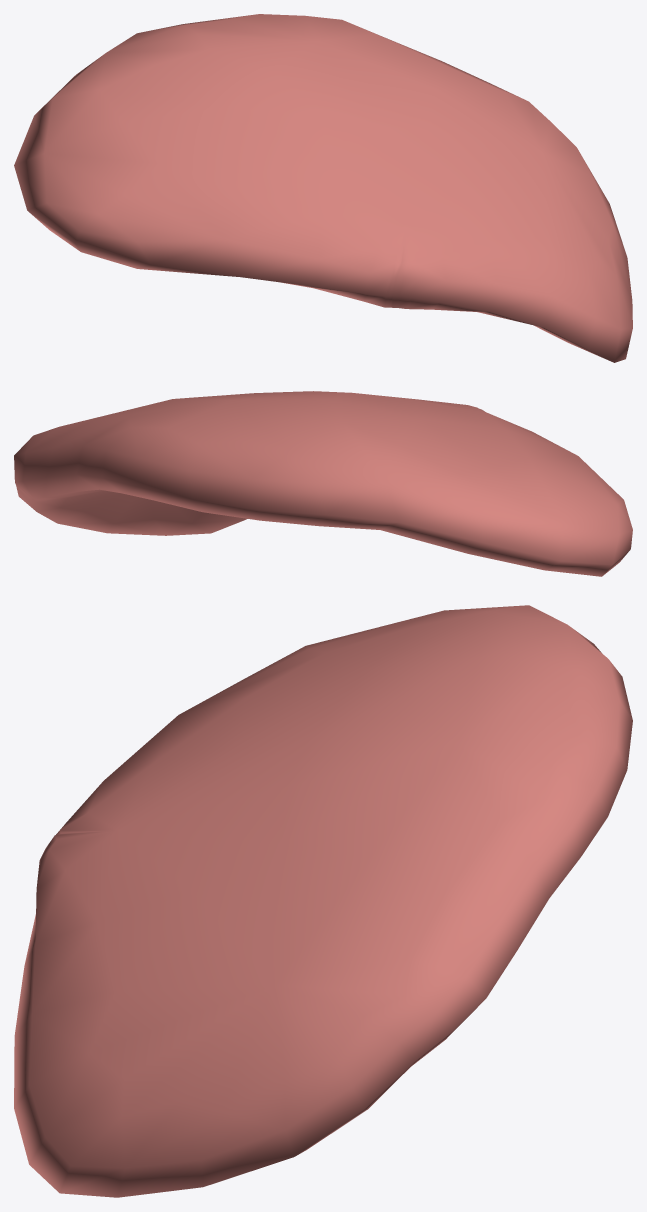
3 renders of one model, top to bottom at view 1: azimuth 30°, elevation 25°; view 2: azimuth 150°, elevation 25°; view 3: azimuth 270°, elevation 25°, orthographic. The views are drawn at different scales.
Parts seen in each view (by area): view 1: ZA_48a4927a52340bd9; view 2: ZA_48a4927a52340bd9; view 3: ZA_48a4927a52340bd9.
Boxes of the visible parts, x1,y1,x2,y2 form: ZA_48a4927a52340bd9: (14,14,632,362); ZA_48a4927a52340bd9: (14,391,632,576); ZA_48a4927a52340bd9: (14,605,632,1197).
Bounding box in the file's own units: 0.00493 × 0.0023 × 0.00359.
